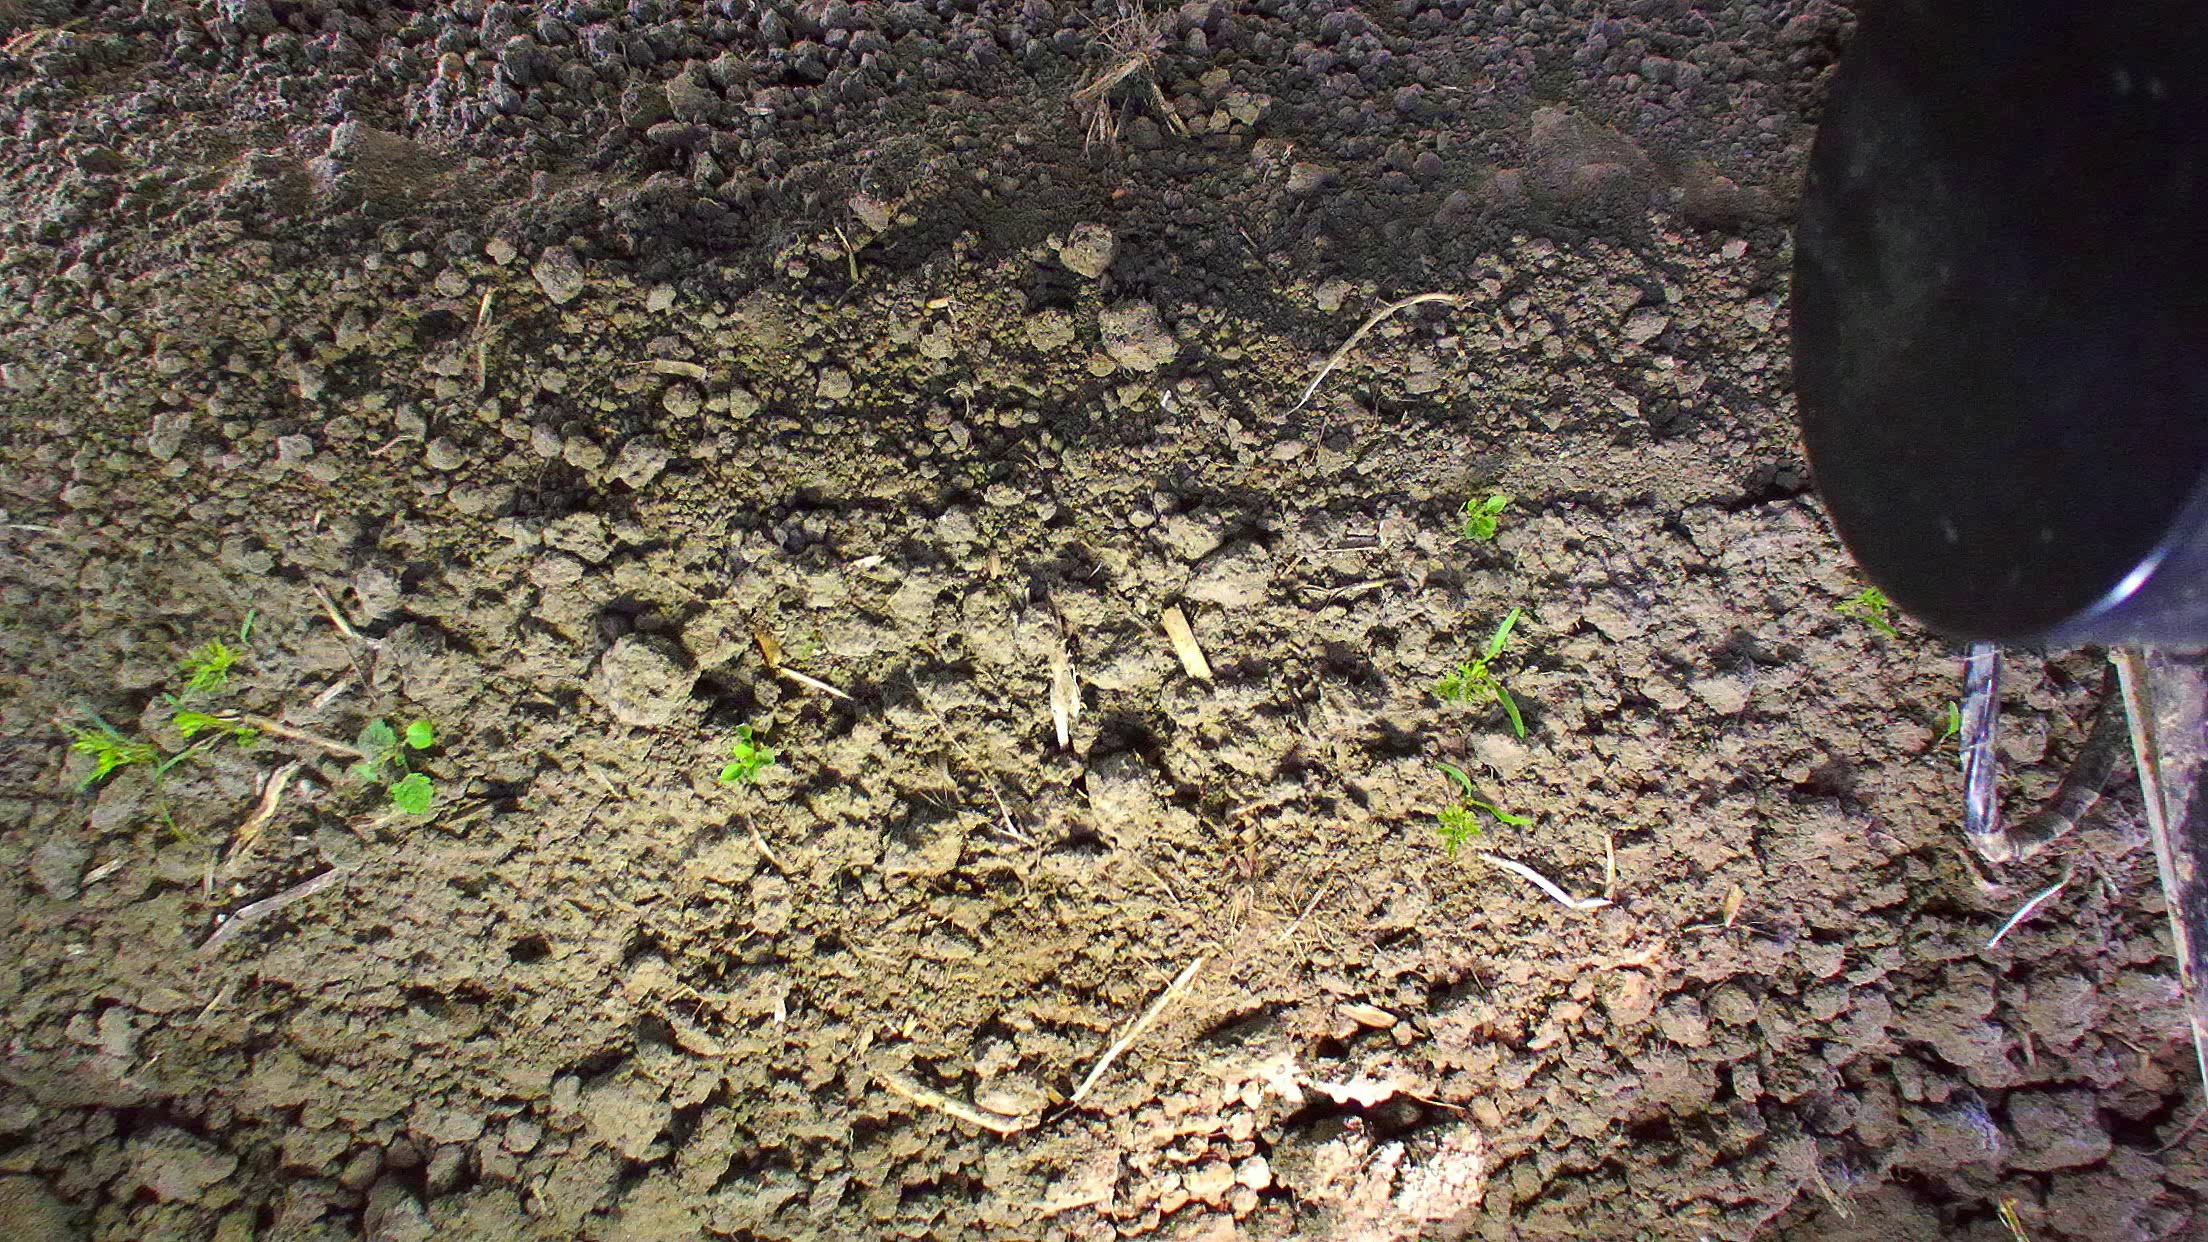Crop: (61, 607, 259, 795), (1432, 604, 1529, 742), (1435, 760, 1535, 830), (1422, 804, 1483, 854), (1850, 584, 1899, 637), (1932, 699, 1965, 748)
Weed: (717, 720, 779, 786), (1460, 491, 1507, 546)
